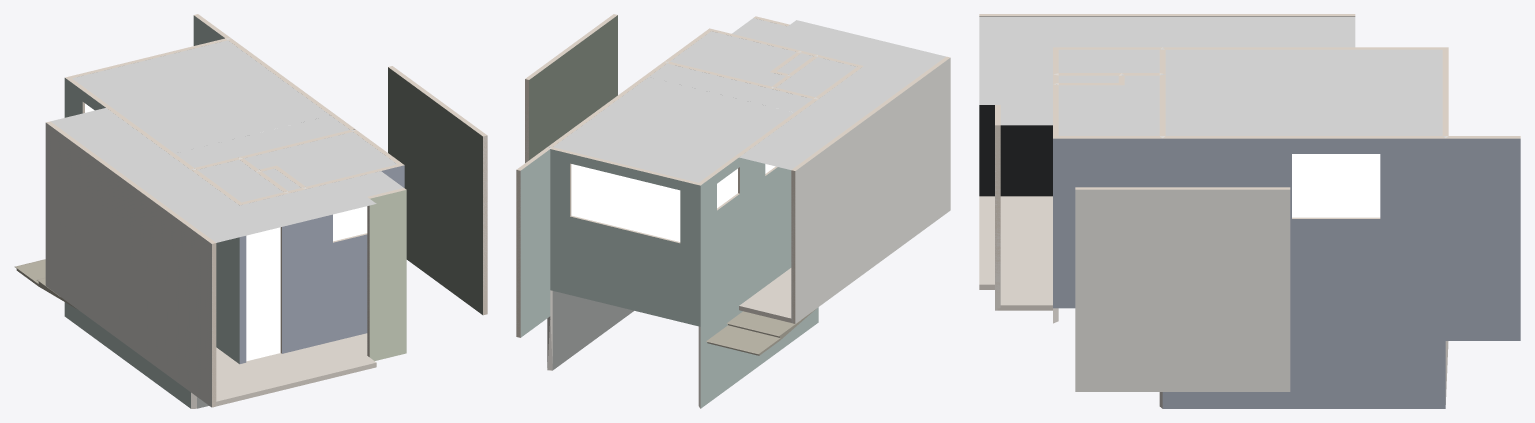
The picture shows the model from 3 angles, left to right: view 1: azimuth 30°, elevation 25°; view 2: azimuth 150°, elevation 25°; view 3: azimuth 270°, elevation 25°; orthographic projection. The views are drawn at different scales.
Visible parts, largest first — view 1: Wall_2, Wall_0, Ceiling_Bedroom, Ceiling_Hallway_3, Wall_14, Wall_4, Floor_Hallway, Door_0, Ceiling_Bathroom, Wall_5, Ceiling_Other_1, Wall_13 (+12 smaller); view 2: Wall_2, Wall_3, Wall_5, Ceiling_Bedroom, Ceiling_Hallway_3, Wall_0, Wall_15, Window_0, Wall_8, Ceiling_Bathroom, Ceiling_Other_1, stairs3_0 (+8 smaller); view 3: Wall_8, Wall_0, Ceiling_Bedroom, Wall_15, Ceiling_Hallway_3, Wall_9, Floor_Hallway, Wall_2, Window_3, Ceiling_Bathroom, Ceiling_Other_1, Ceiling_Hallway_0 (+8 smaller).
Boxes of the visible parts, box(x1,y1,x2,y2) form: Wall_2: box(45, 121, 216, 407); Wall_0: box(388, 66, 487, 315); Ceiling_Bedroom: box(72, 39, 330, 153); Ceiling_Hallway_3: box(50, 108, 273, 242); Wall_14: box(306, 164, 404, 347); Wall_4: box(367, 188, 406, 360); Floor_Hallway: box(214, 333, 376, 406); Door_0: box(246, 227, 280, 361); Ceiling_Bathroom: box(244, 130, 397, 187); Wall_5: box(64, 77, 193, 408); Ceiling_Other_1: box(175, 115, 353, 167); Wall_13: box(191, 170, 241, 363); Wall_2: box(791, 56, 950, 323); Wall_3: box(550, 147, 700, 326); Wall_5: box(699, 99, 818, 408); Ceiling_Bedroom: box(550, 77, 793, 182); Ceiling_Hallway_3: box(739, 43, 945, 169); Wall_0: box(525, 14, 617, 162); Wall_15: box(516, 147, 550, 337); Window_0: box(571, 164, 680, 241); Wall_8: box(548, 61, 666, 370); Ceiling_Bathroom: box(667, 31, 796, 86); Ceiling_Other_1: box(649, 62, 812, 112); stairs3_0: box(706, 309, 815, 355); Wall_8: box(1162, 136, 1445, 408); Wall_0: box(1075, 187, 1290, 391); Ceiling_Bedroom: box(1210, 49, 1445, 137); Wall_15: box(1445, 136, 1520, 340); Ceiling_Hallway_3: box(979, 16, 1355, 48); Wall_9: box(1053, 136, 1162, 308); Floor_Hallway: box(979, 196, 1052, 310); Wall_2: box(979, 14, 1355, 196); Window_3: box(1292, 154, 1380, 217); Ceiling_Bathroom: box(1056, 74, 1162, 136); Ceiling_Other_1: box(1162, 48, 1210, 135); Ceiling_Hallway_0: box(979, 84, 1052, 125).
Size of the model in its own units: 7.04 by 5.05 by 9.17.
Materials: 33 (16 with a texture image).
